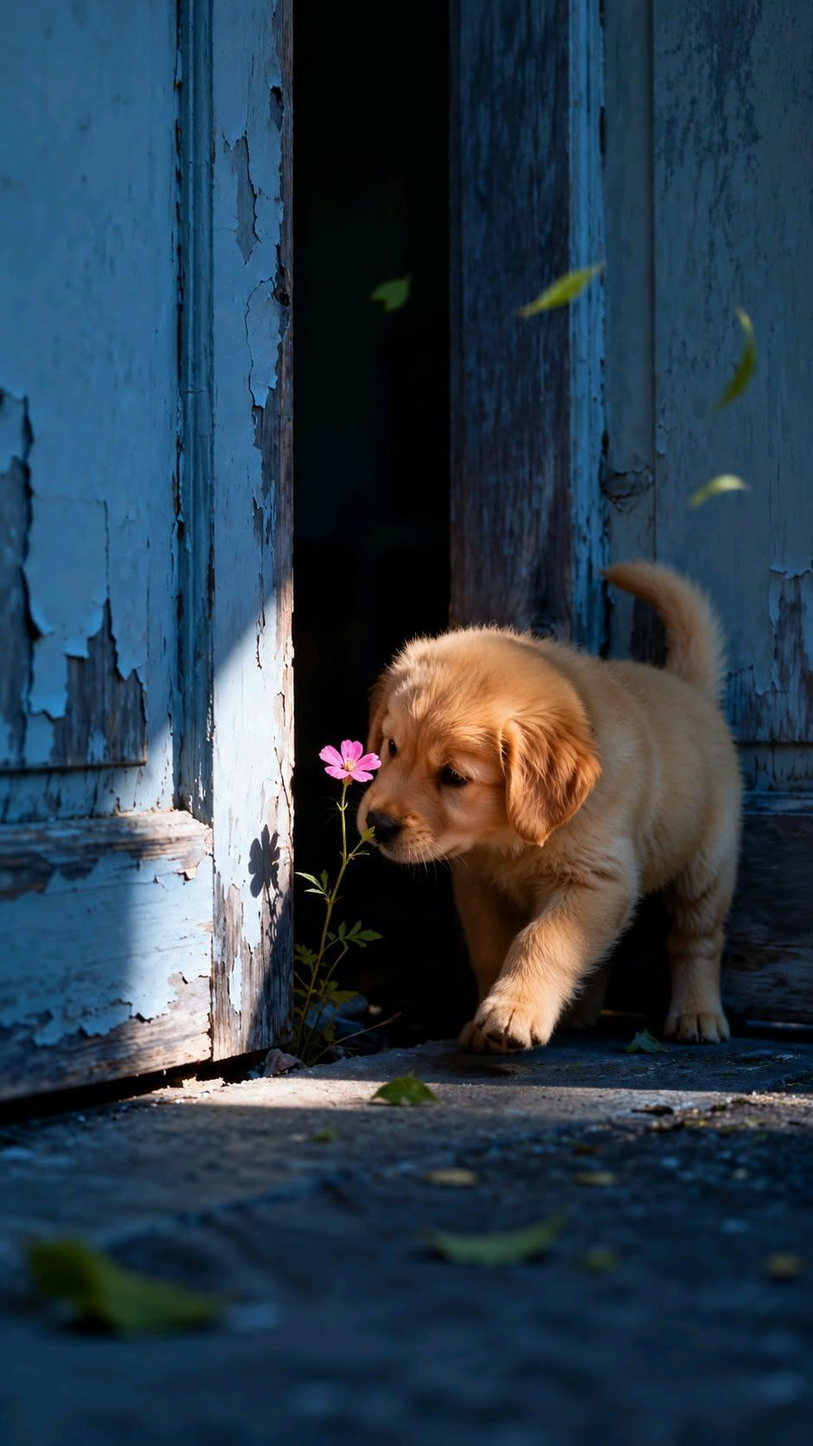puppy-dog: (353, 559, 745, 1055)
